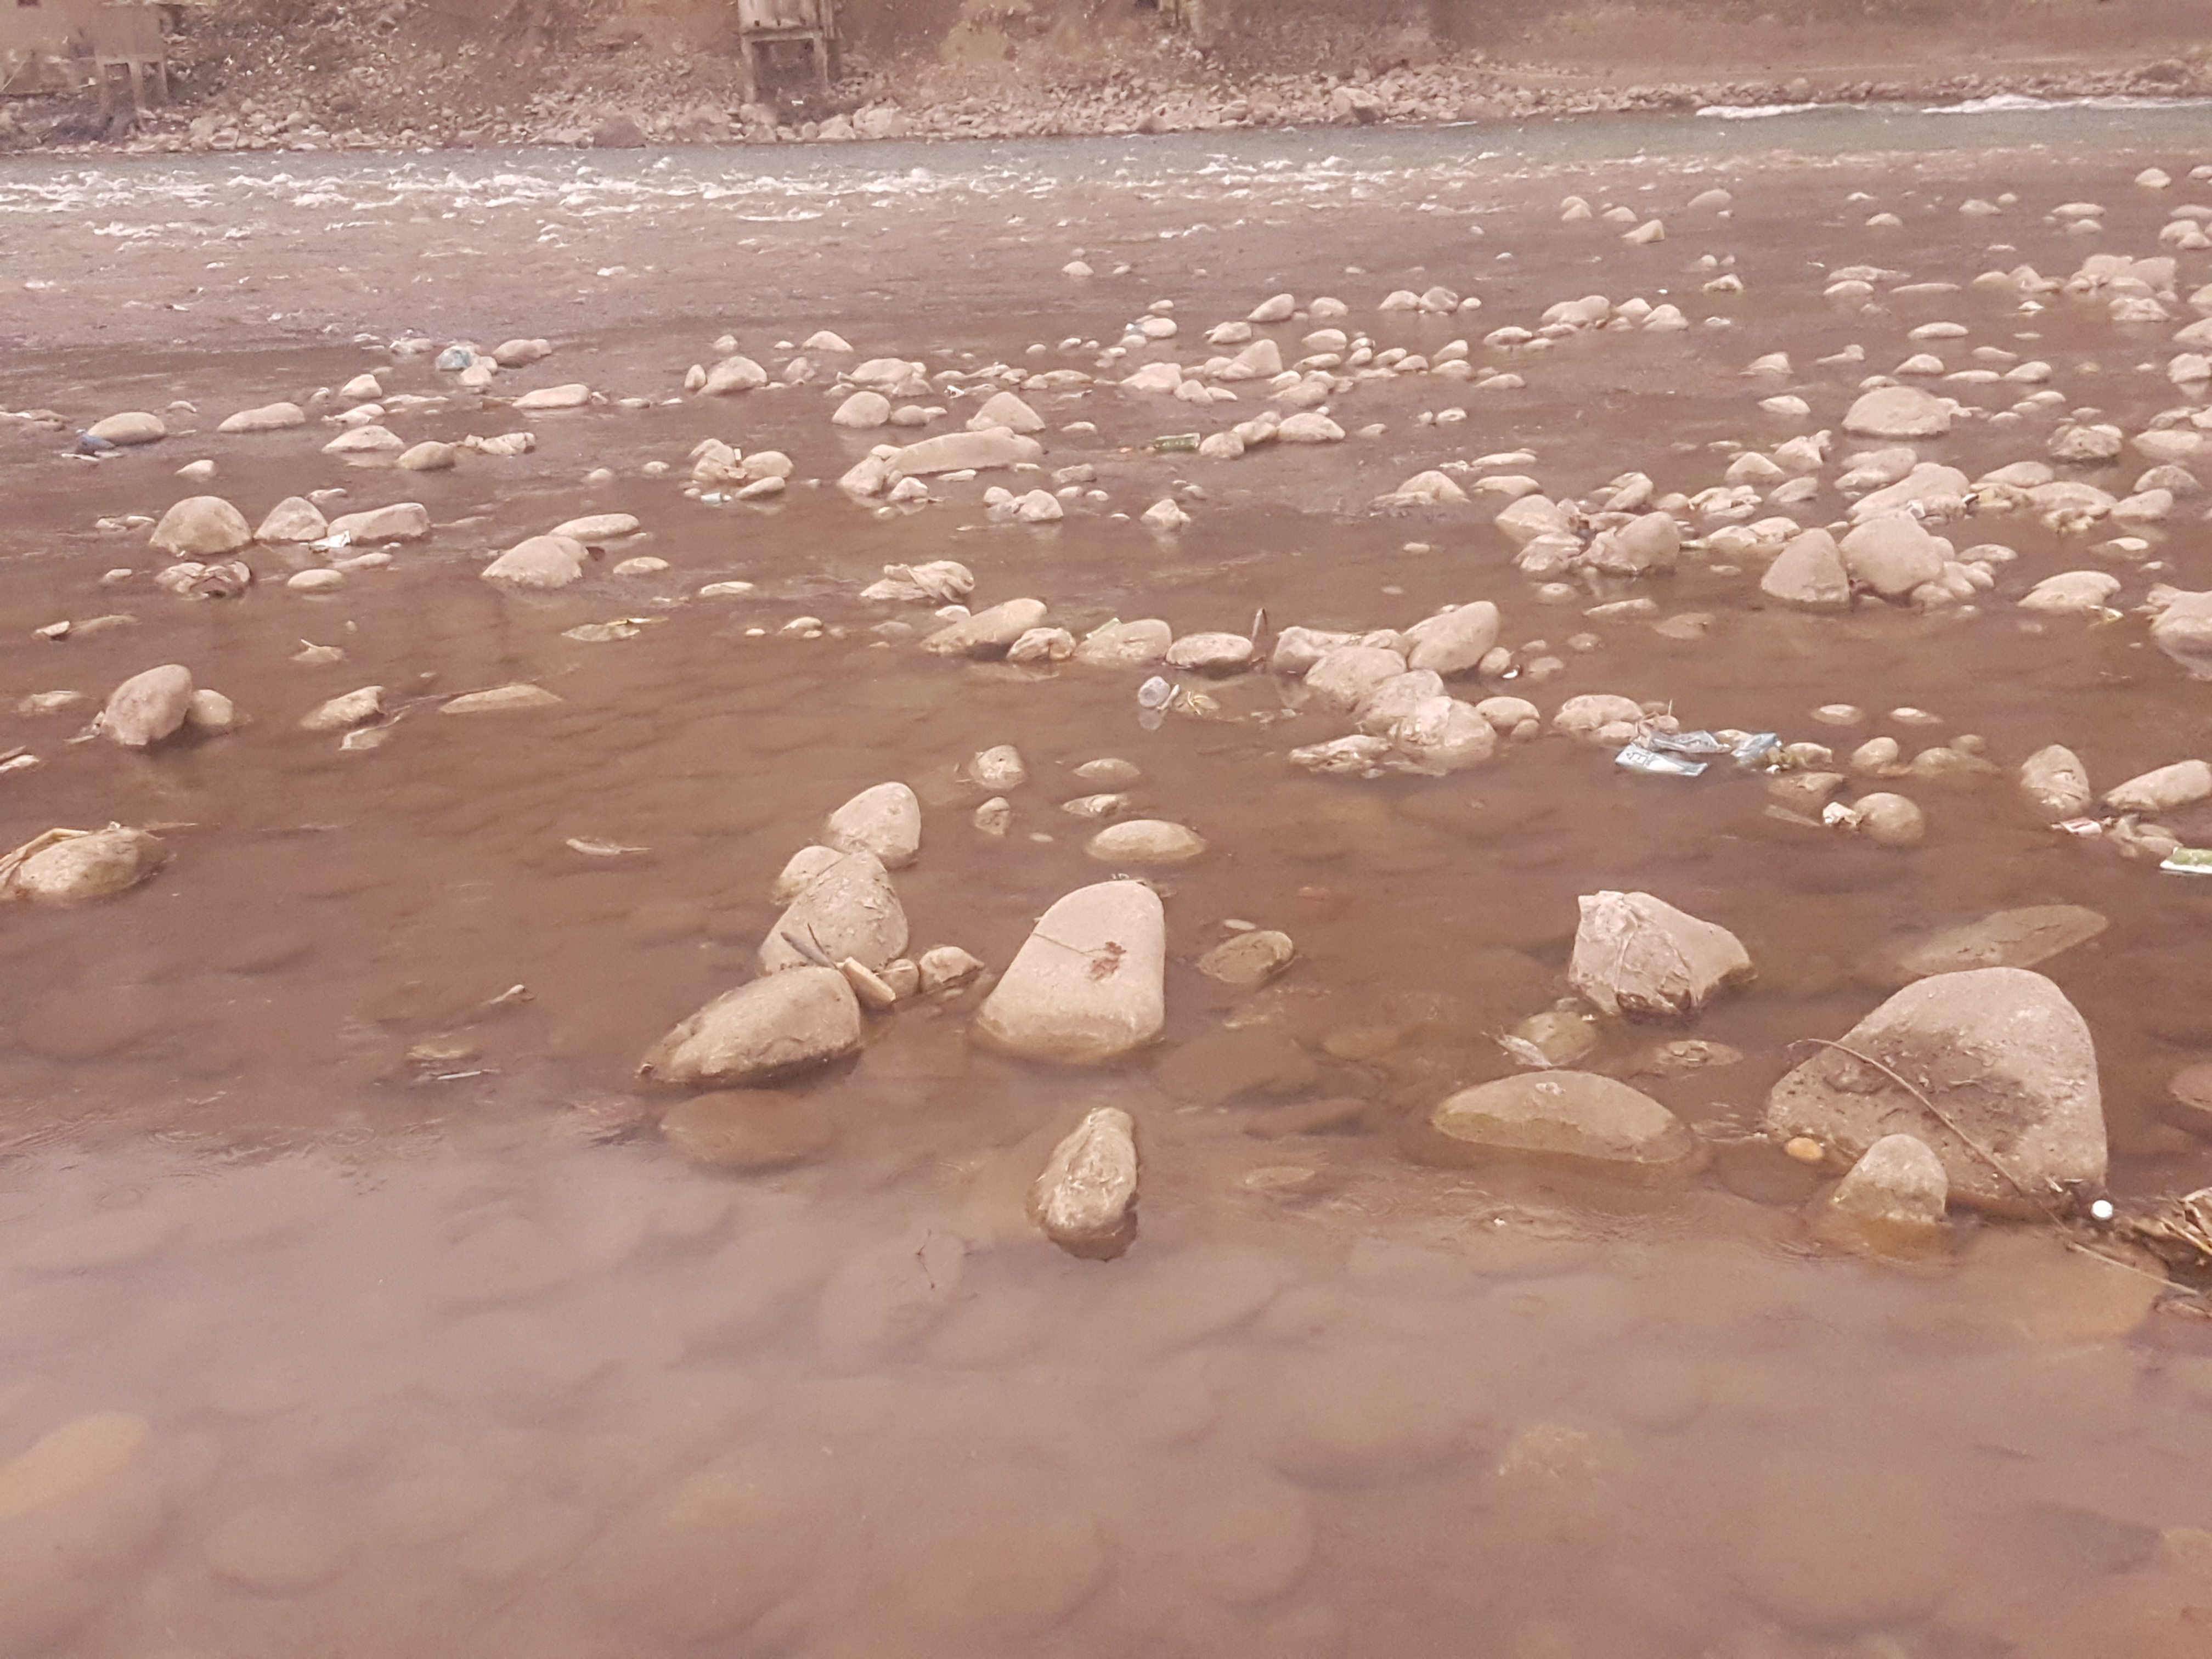Plastic Bottle: (1137, 674, 1169, 708), (700, 491, 732, 504)
